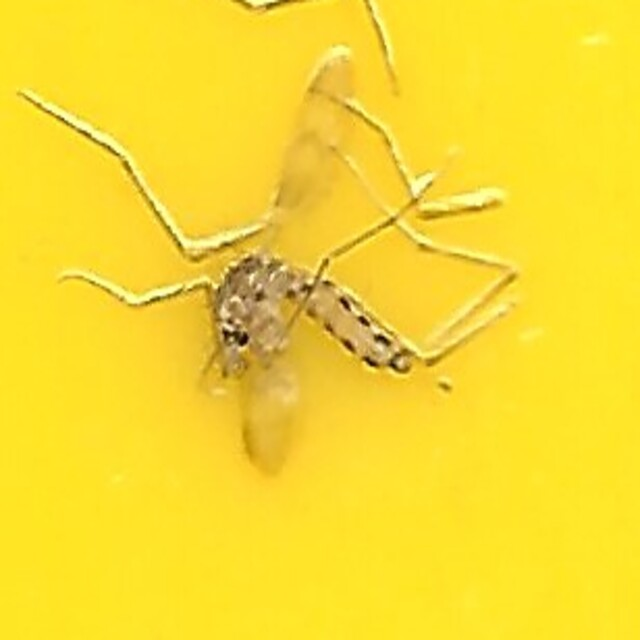Nematocera: (208, 251, 432, 389)
